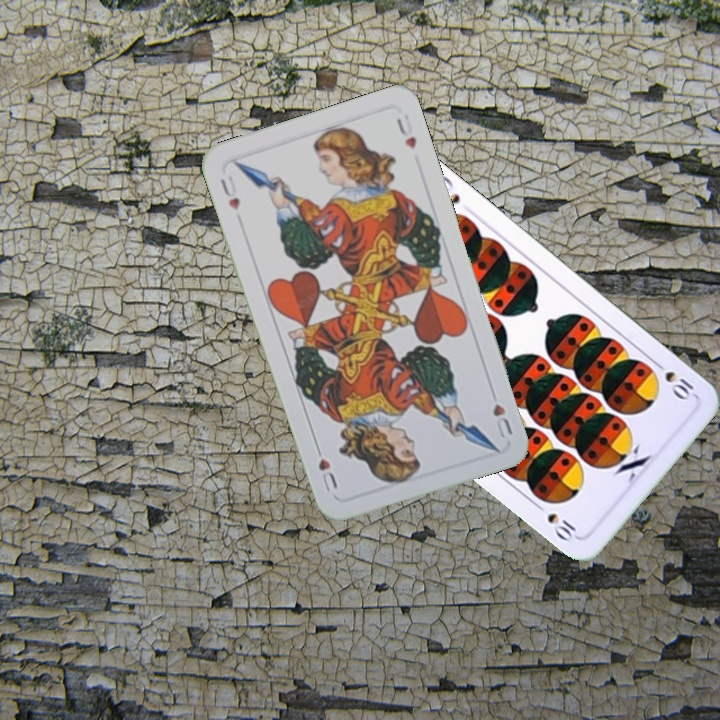HU: (488, 400, 516, 441), (216, 171, 243, 213)
S10: (649, 356, 697, 403)
